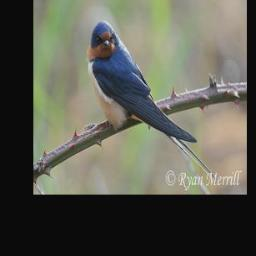Swallow: (85, 19, 218, 182)
